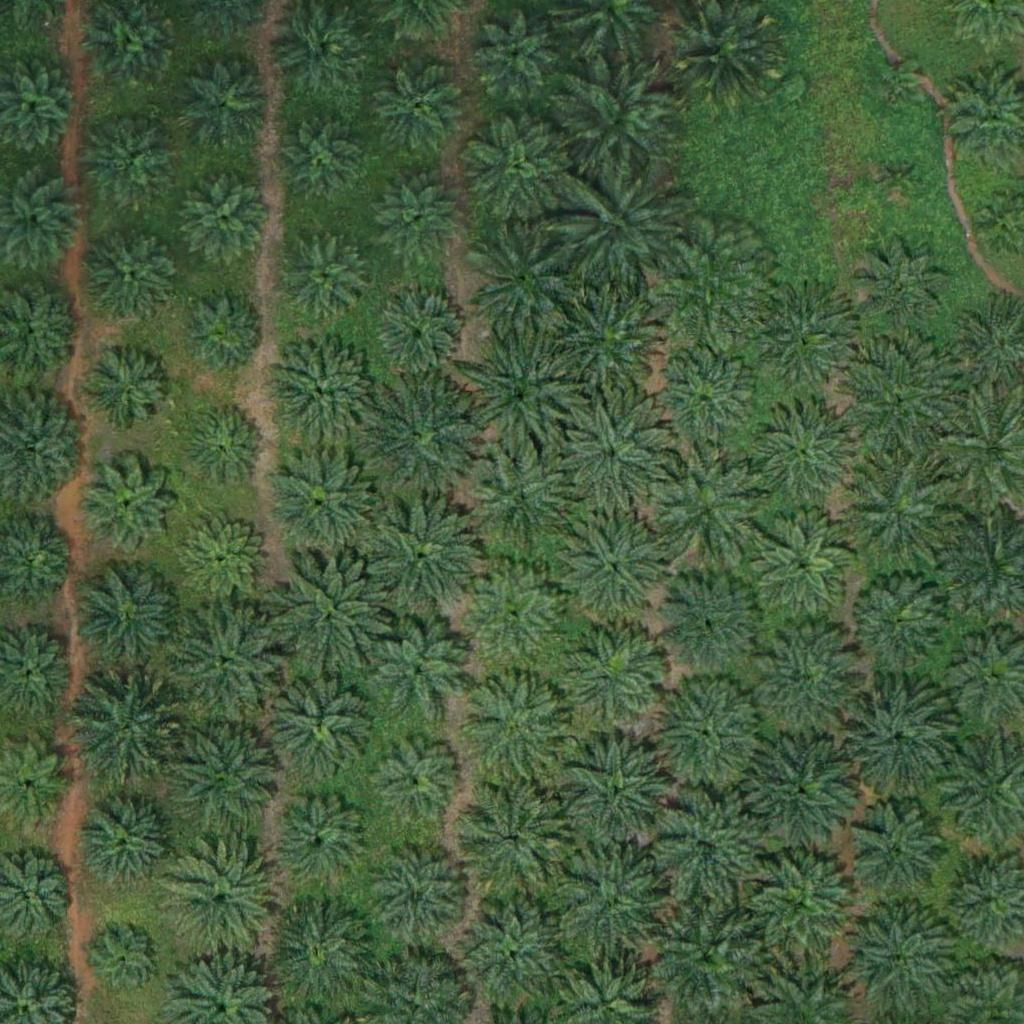Kelapa_Sawit: (654, 229, 767, 343), (566, 61, 679, 175), (566, 168, 679, 282), (74, 561, 187, 675), (66, 674, 179, 788), (72, 783, 185, 896), (164, 845, 277, 958), (263, 334, 376, 447), (264, 450, 377, 563), (367, 383, 480, 496), (365, 501, 478, 614), (461, 673, 574, 786), (453, 782, 566, 895), (546, 283, 659, 396), (649, 345, 762, 458), (653, 452, 766, 565), (650, 566, 763, 679), (753, 620, 866, 733), (745, 730, 858, 843), (846, 905, 959, 1018), (747, 851, 860, 964), (558, 850, 671, 963), (458, 901, 571, 1014), (172, 606, 284, 720), (169, 718, 281, 832), (266, 786, 378, 900), (744, 277, 856, 391), (748, 392, 860, 506), (843, 344, 955, 458), (840, 452, 952, 566), (263, 898, 375, 1012), (845, 232, 957, 345), (462, 112, 574, 225), (469, 226, 581, 339), (273, 556, 385, 669), (267, 669, 379, 782), (464, 341, 576, 454), (466, 443, 578, 556), (555, 402, 667, 515), (556, 513, 668, 626), (561, 737, 673, 850), (649, 680, 761, 793), (650, 792, 762, 905), (841, 673, 953, 786), (652, 902, 764, 1015), (370, 53, 470, 154), (175, 53, 275, 154), (80, 110, 180, 211), (81, 223, 181, 324), (366, 618, 466, 719), (462, 564, 562, 665), (562, 624, 662, 725), (752, 511, 852, 612), (847, 802, 947, 903), (76, 456, 176, 556), (369, 847, 469, 947), (848, 568, 948, 668), (372, 174, 460, 262), (377, 291, 465, 379), (274, 116, 362, 204), (83, 347, 171, 435), (181, 401, 269, 489), (178, 515, 266, 603), (281, 233, 368, 322), (181, 173, 268, 262), (472, 9, 559, 97), (179, 289, 266, 377), (375, 737, 462, 825), (95, 929, 158, 992), (881, 67, 918, 105), (877, 158, 914, 196)
